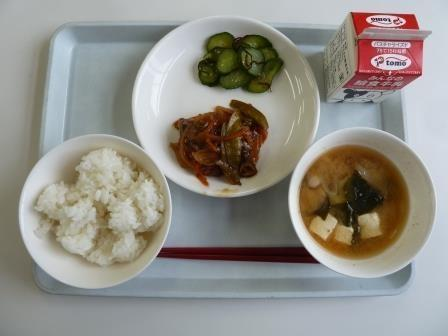Meat: (169, 95, 272, 185)
Milk: (324, 6, 437, 110)
Rice: (23, 144, 165, 272)
Salad: (193, 17, 289, 104)
Soups: (296, 140, 426, 268)
